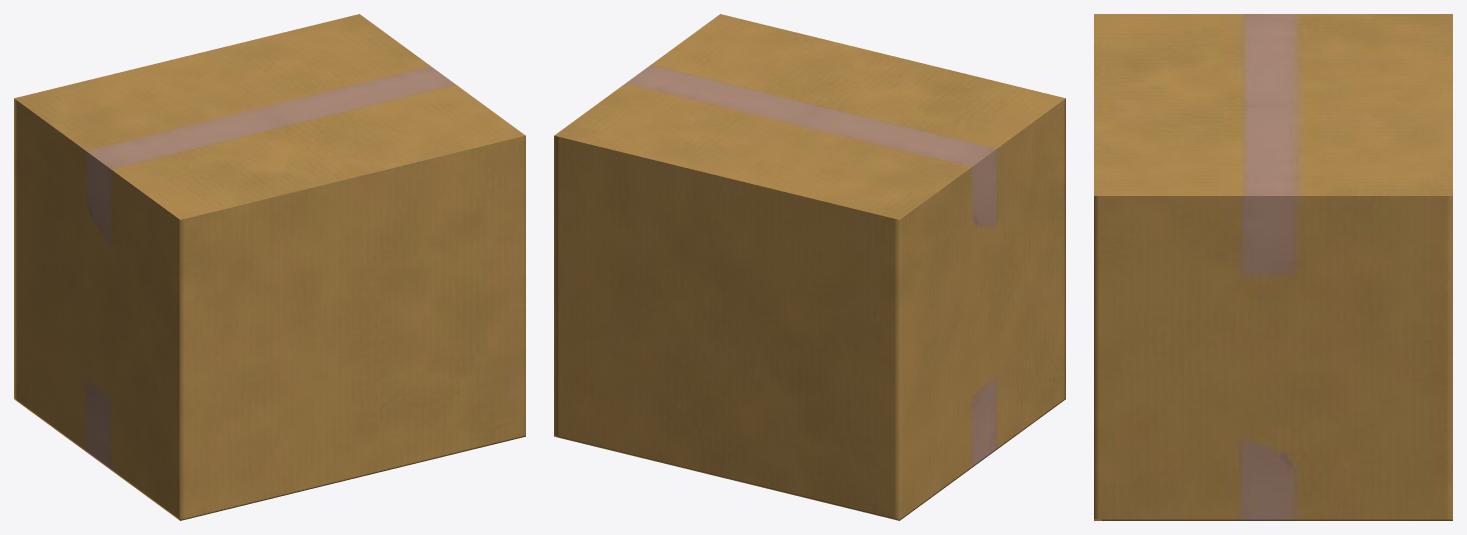
3 views of the same model, side by side, from view 1: azimuth 30°, elevation 25°; view 2: azimuth 150°, elevation 25°; view 3: azimuth 270°, elevation 25° (orthographic). The views are drawn at different scales.
Size of the model in its own units: 0.3619 by 0.3012 by 0.3016.
1 material, 1 textured.
